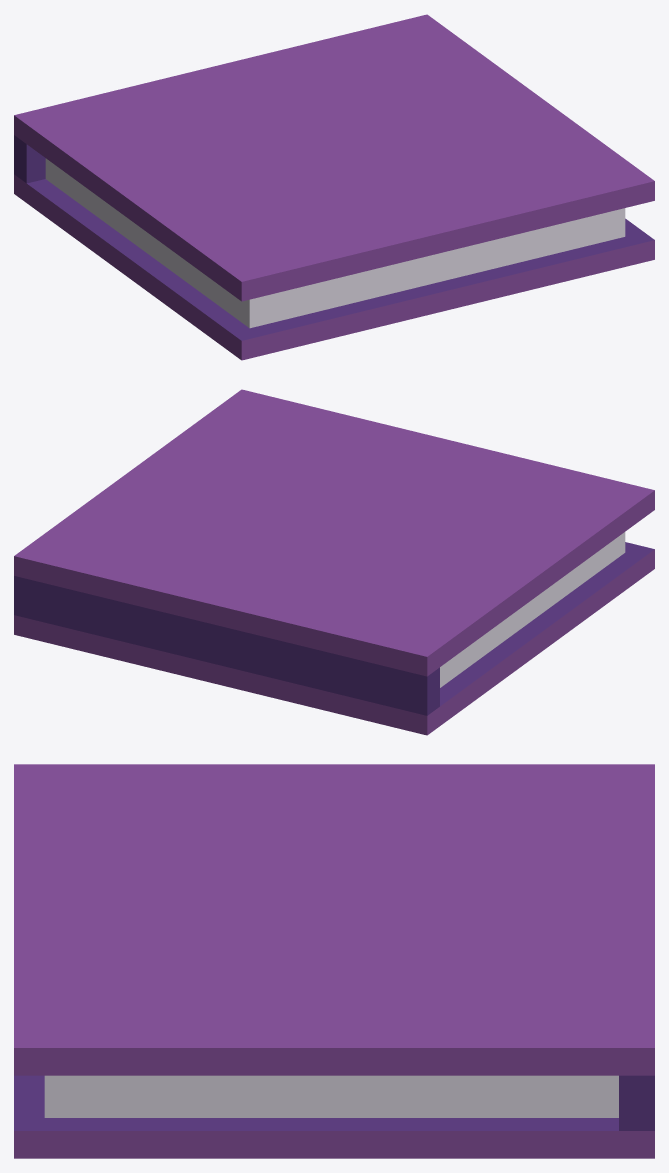
The model's file is book_4.fbx.
3 renders of one model, top to bottom at view 1: azimuth 30°, elevation 25°; view 2: azimuth 150°, elevation 25°; view 3: azimuth 270°, elevation 25°, orthographic. The views are drawn at different scales.
Parts seen in each view (by area): view 1: cuboid; view 2: cuboid; view 3: cuboid.
Boxes of the visible parts, box(x1,y1,x2,y2) form: cuboid: box(14, 14, 654, 360); cuboid: box(14, 389, 654, 735); cuboid: box(14, 764, 654, 1158).
Bounding box in the file's own units: 13.75 × 2.5 × 13.12.
Materials: 1 (1 with a texture image).
